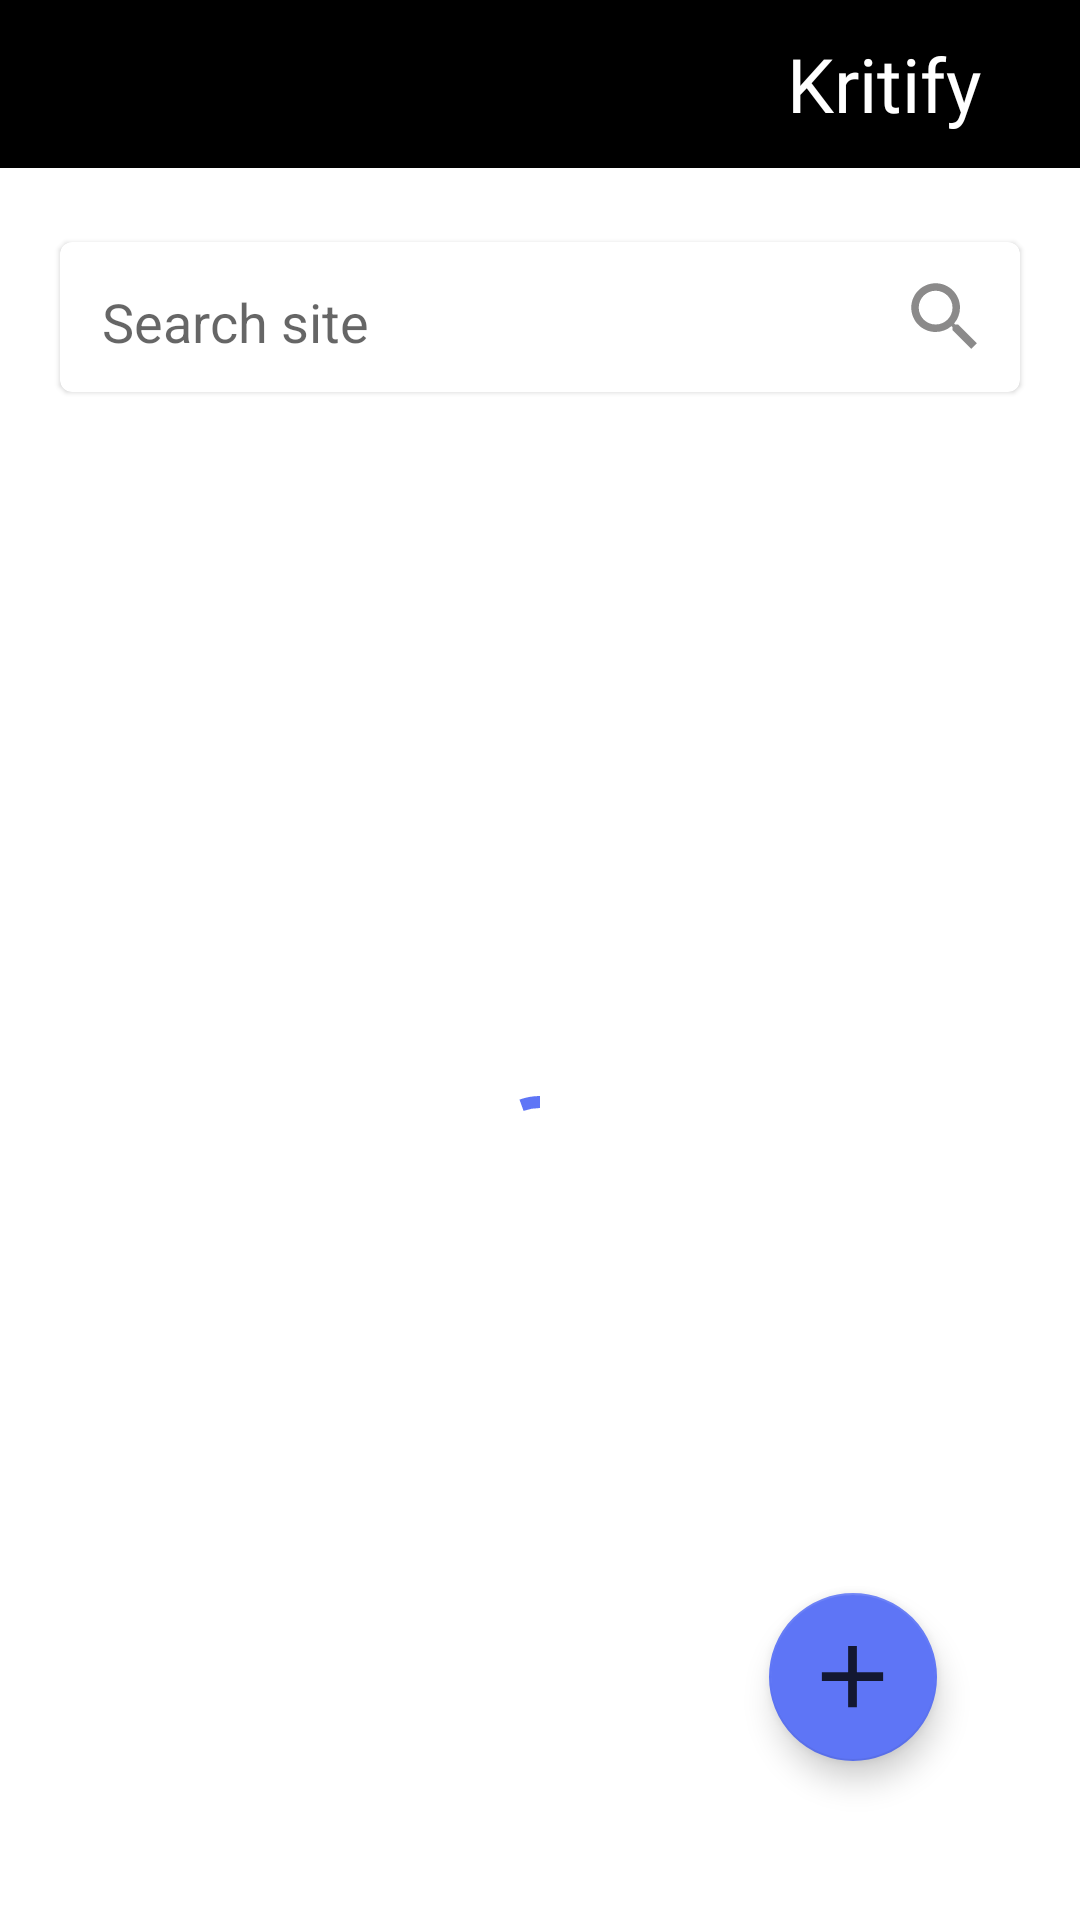

Point at icon controls on the screen. Image size 1080*1920, points as (x=x, y=y).
New post: (x=853, y=1677)
